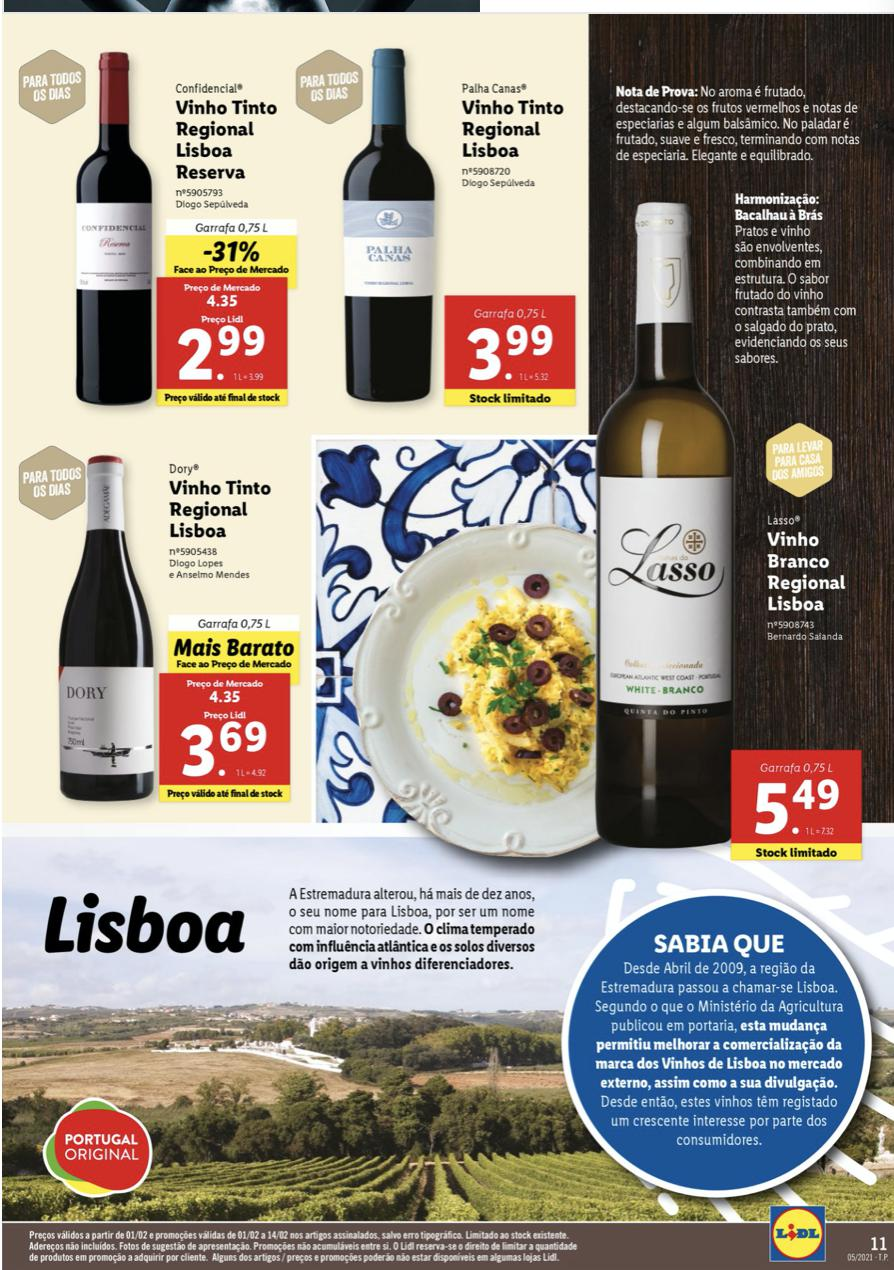name: (751, 526, 859, 615), (172, 96, 280, 182), (162, 473, 281, 548), (448, 93, 573, 159)
price: (743, 756, 847, 843), (175, 706, 272, 786), (172, 309, 270, 386), (464, 318, 561, 392)
product: (593, 167, 886, 867), (6, 443, 307, 823), (289, 36, 581, 414), (23, 42, 282, 429)
promotion: (195, 239, 262, 265)
